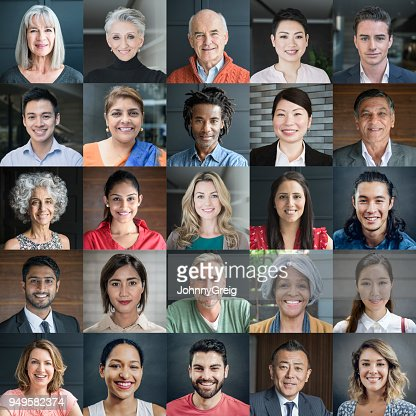men: (261, 339, 322, 404), (179, 88, 234, 151), (176, 340, 232, 398), (180, 259, 235, 315), (346, 177, 398, 231), (347, 11, 394, 70), (347, 95, 399, 145), (18, 256, 62, 314), (17, 94, 65, 145), (187, 10, 231, 64)
women: (93, 339, 153, 407), (179, 175, 237, 238), (13, 339, 68, 404), (258, 260, 320, 316), (344, 260, 405, 315), (94, 256, 148, 318), (13, 177, 74, 231), (347, 343, 399, 400), (266, 170, 314, 230), (264, 93, 316, 147), (96, 11, 151, 62), (94, 179, 148, 229), (100, 86, 147, 143), (267, 10, 314, 67), (17, 11, 60, 67)
